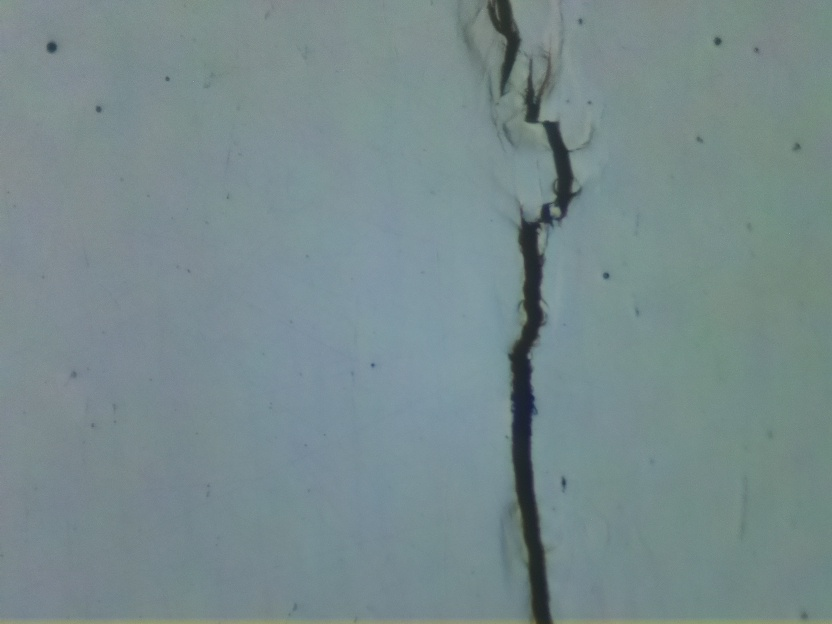crack: (507, 55, 571, 624), (481, 0, 522, 98)
